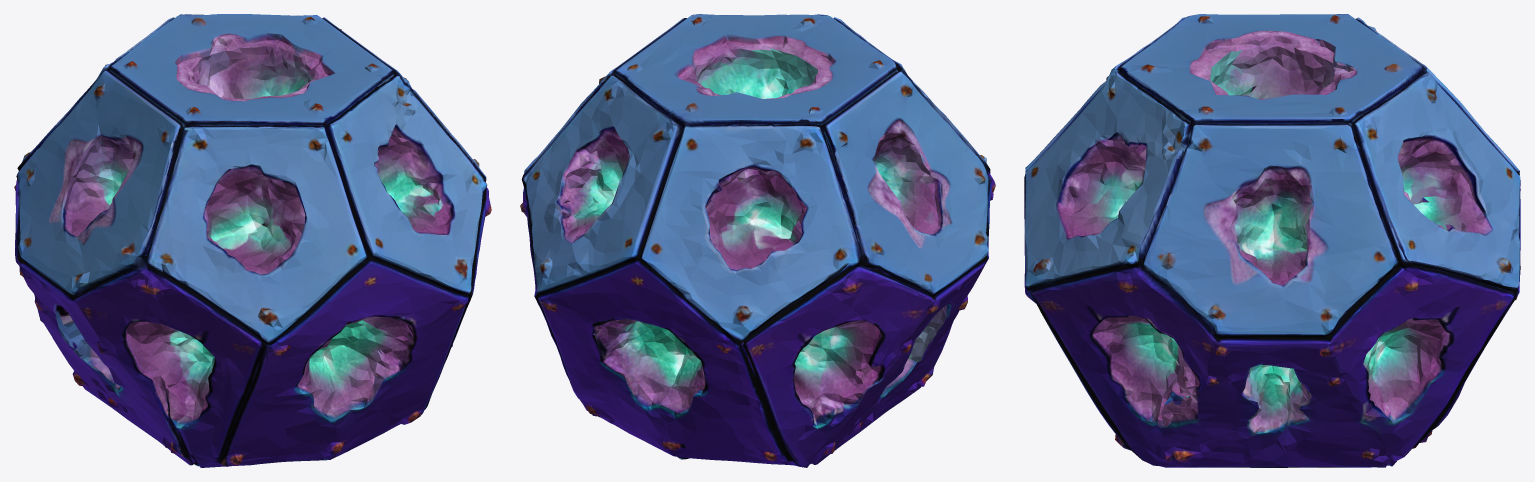
Rendered from vessel-03.glb.
3 views of the same model, side by side, from view 1: azimuth 30°, elevation 25°; view 2: azimuth 150°, elevation 25°; view 3: azimuth 270°, elevation 25° (orthographic). The views are drawn at different scales.
Visible parts, largest first — view 1: tmp0owil15i.ply; view 2: tmp0owil15i.ply; view 3: tmp0owil15i.ply.
Boxes of the visible parts, <box> form: tmp0owil15i.ply: <box>14,14,491,467</box>; tmp0owil15i.ply: <box>520,14,995,467</box>; tmp0owil15i.ply: <box>1024,14,1520,467</box>.
Bounding box in the file's own units: 1.99 × 1.59 × 1.99.
Materials: 1 (1 with a texture image).
